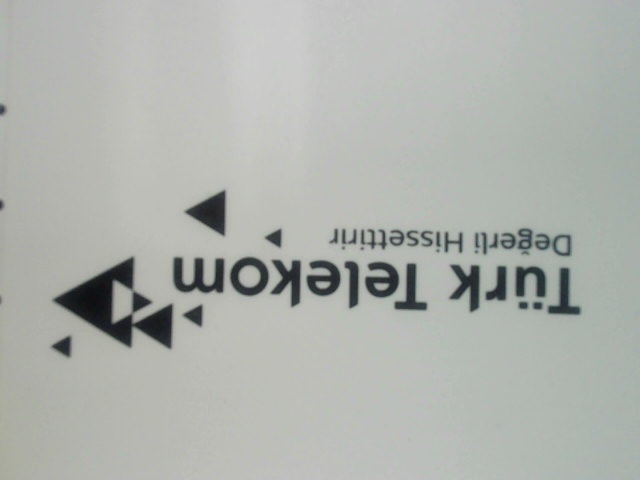AQ_TURKTelekom: (29, 189, 589, 368)
